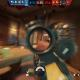Friend_label: (24, 42, 29, 45), (8, 32, 12, 35)
